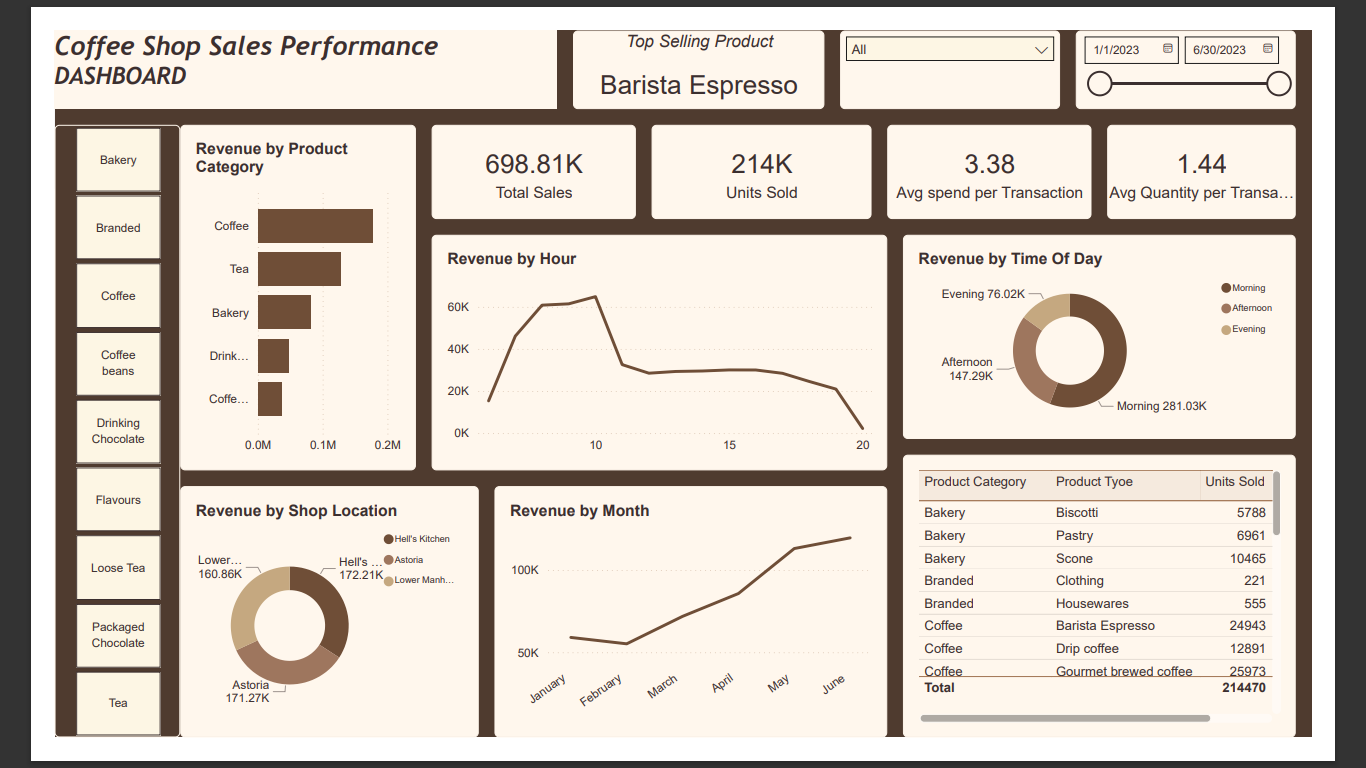

Layout of this report page (visuals, bound fields, positions):
{"tool":"powerbi","page":{"name":"Overview","canvas":[1280,720],"ordinal":0},"visuals":[{"type":"clusteredBarChart","title":"Revenue by Product Category","fields":{"Category":["Transactions.Product Category"],"Y":["Transactions.Total Revenue"]},"box":[128,96,240,352],"z":0},{"type":"card","title":"Top Selling Product","fields":{"Values":["Min(Transactions.Product Tyoe)"]},"box":[528,0,256,80],"z":1},{"type":"slicer","fields":{"Values":["Transactions.Shop Location"]},"box":[800,0,224,80],"z":2},{"type":"slicer","fields":{"Values":["Transactions.Transaction Date"]},"box":[1040,0,224,80],"z":3},{"type":"slicer","fields":{"Values":["Transactions.Product Category"]},"box":[0,96,128,624],"z":4},{"type":"donutChart","title":"Revenue by Shop Location","fields":{"Category":["Transactions.Shop Location"],"Y":["Transactions.Total Revenue"]},"box":[128,464,304,256],"z":5},{"type":"card","fields":{"Values":["Transactions.Total Sales"]},"box":[384,96,208,96],"z":6},{"type":"card","fields":{"Values":["Transactions.Units Sold"]},"box":[608,96,224,96],"z":7},{"type":"card","fields":{"Values":["Transactions.Average spend per Transaction"]},"box":[848,96,208,96],"z":8},{"type":"card","fields":{"Values":["Transactions.Average Quantity per Transaction"]},"box":[1072,96,192,96],"z":9},{"type":"lineChart","title":"Revenue by Hour","fields":{"Y":["Transactions.Total Revenue"],"Category":["Transactions.Transaction Hour"]},"box":[384,208,464,240],"z":10},{"type":"donutChart","title":"Revenue by Time Of Day","fields":{"Category":["Transactions.Time Of Day"],"Y":["Transactions.Total Revenue"]},"box":[864,208,400,208],"z":11},{"type":"lineChart","title":"Revenue by Month","fields":{"Y":["Transactions.Total Revenue"],"Category":["DateTable.Date.Variation.Date Hierarchy.Month"]},"box":[448,464,400,256],"z":12},{"type":"tableEx","fields":{"Values":["Transactions.Product Category","Transactions.Product Tyoe","Transactions.Units Sold","Transactions.Total Sales"]},"box":[864,432,400,288],"z":13},{"type":"textbox","box":[0,0,512,80],"z":15}]}

Visuals, with their boxes in screenshot pixels (x1, y1, x2, y2), scaled from the page's 1280x720 canvas onto the 1366x768 screenshot:
"Revenue by Product Category" clusteredBarChart: rect(137, 102, 393, 478)
"Top Selling Product" card: rect(563, 0, 837, 85)
slicer - Transactions.Shop Location: rect(854, 0, 1093, 85)
slicer - Transactions.Transaction Date: rect(1110, 0, 1349, 85)
slicer - Transactions.Product Category: rect(0, 102, 137, 767)
"Revenue by Shop Location" donutChart: rect(137, 495, 461, 767)
card - Transactions.Total Sales: rect(410, 102, 632, 205)
card - Transactions.Units Sold: rect(649, 102, 888, 205)
card - Transactions.Average spend per Transaction: rect(905, 102, 1127, 205)
card - Transactions.Average Quantity per Transaction: rect(1144, 102, 1349, 205)
"Revenue by Hour" lineChart: rect(410, 222, 905, 478)
"Revenue by Time Of Day" donutChart: rect(922, 222, 1349, 444)
"Revenue by Month" lineChart: rect(478, 495, 905, 767)
tableEx - Transactions.Product Category x Transactions.Product Tyoe: rect(922, 461, 1349, 767)
textbox: rect(0, 0, 546, 85)
